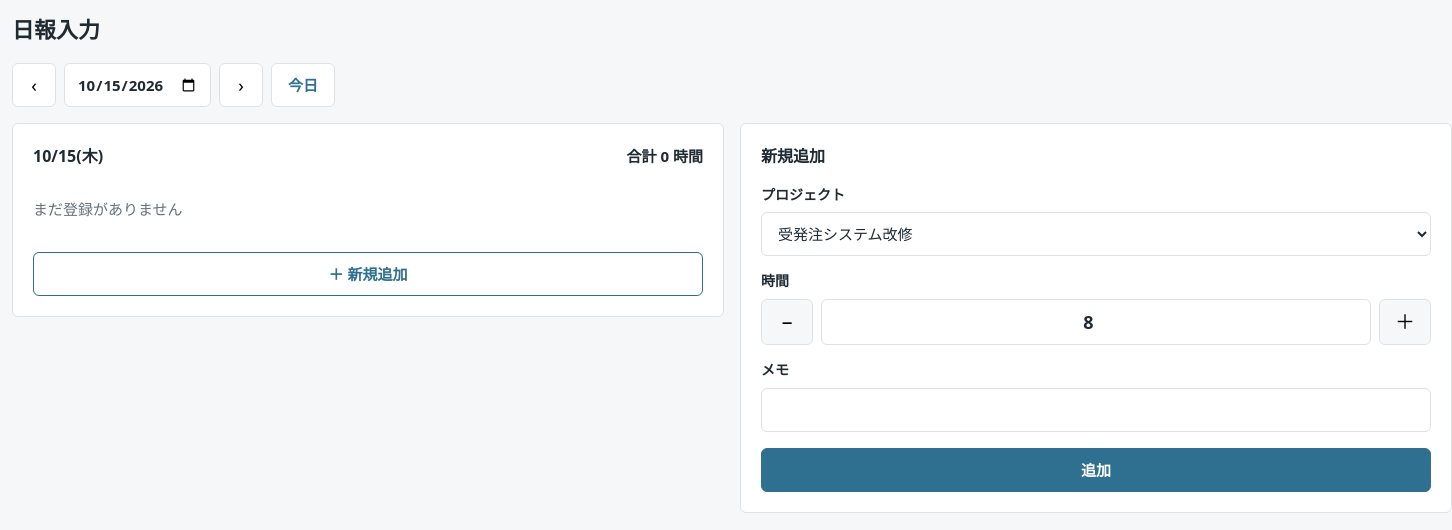
Test case: 日付 › 「今日」ボタンで今日に戻れる。今日を開いている時は押せない
This screenshot has width=1452, height=530.
Click the button "今日" at (303, 85), box [271, 63, 335, 107]
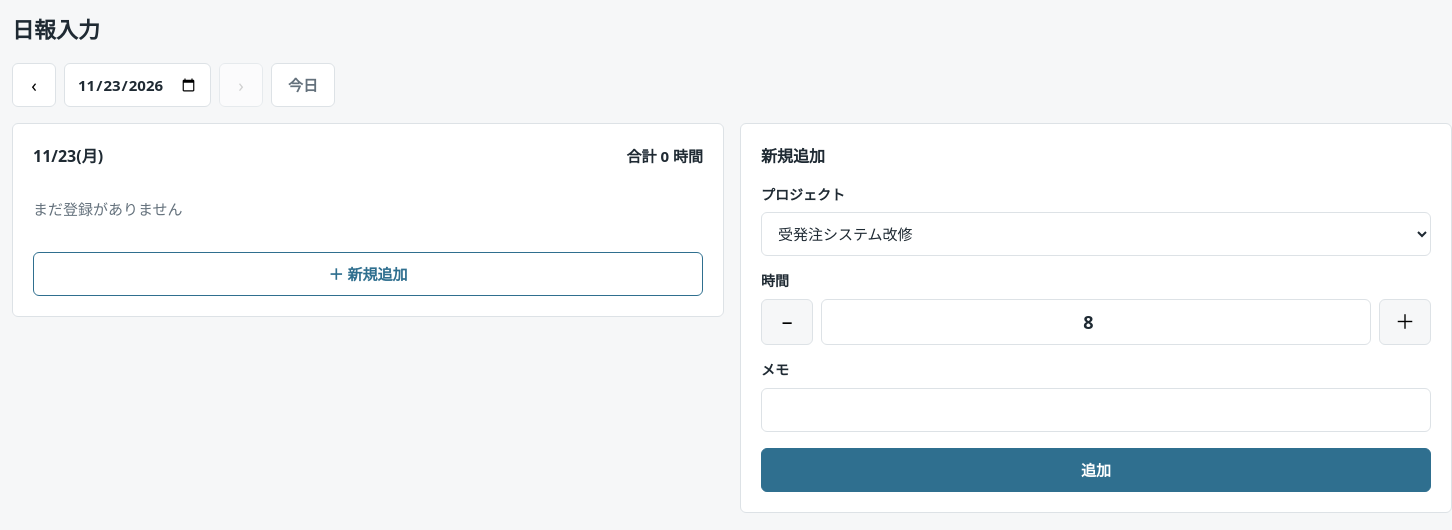
Now the button "今日" is disabled, box [271, 63, 335, 107]
